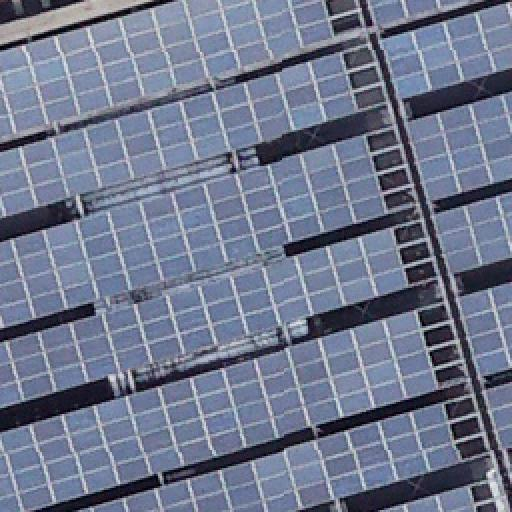solar-panel: (0, 308, 440, 512), (0, 135, 388, 329), (0, 225, 412, 407), (0, 52, 360, 220), (0, 0, 336, 140), (74, 400, 462, 512), (380, 3, 512, 101), (408, 90, 512, 206), (433, 195, 511, 277), (456, 279, 512, 377), (367, 1, 473, 31), (379, 484, 477, 512), (484, 381, 512, 451), (508, 472, 512, 484)
